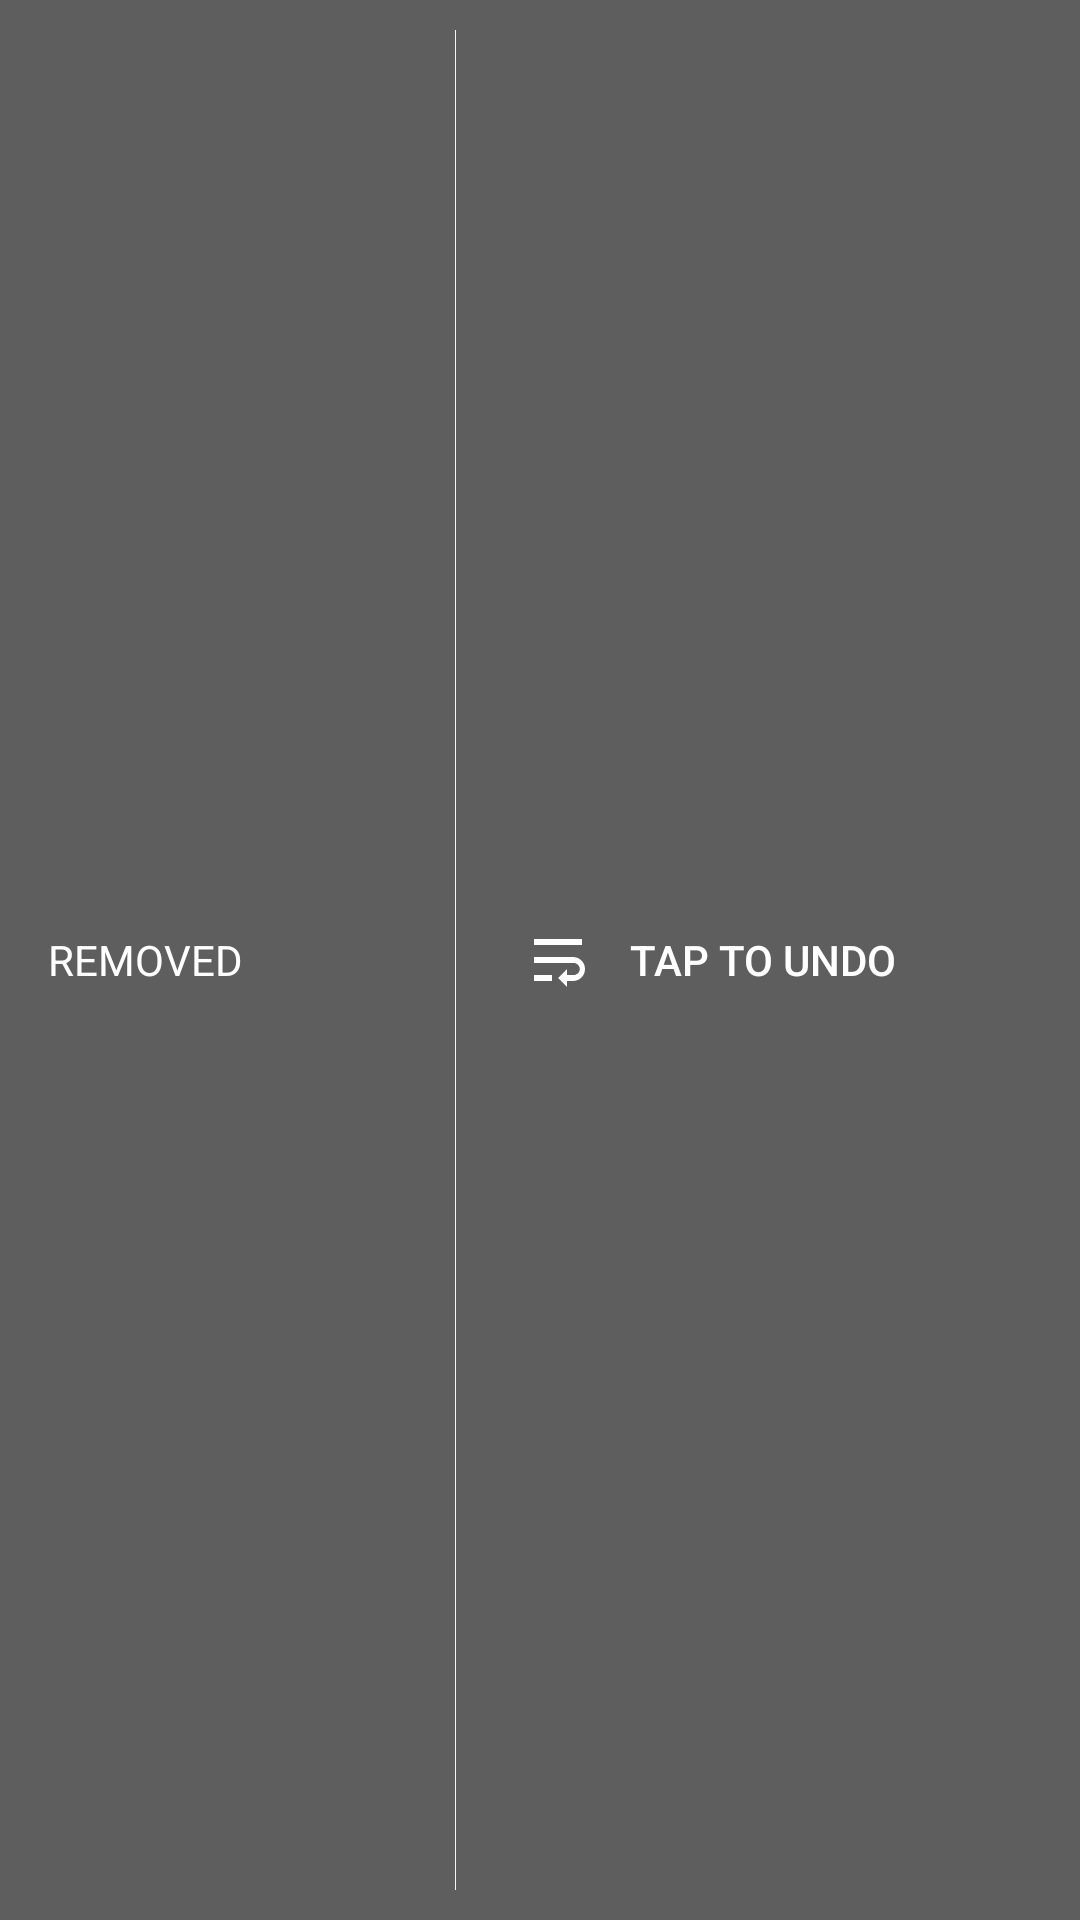

Where to tap for icons on this 1080×1920 app screen, as [x,y]:
wrap text: [559,963]
